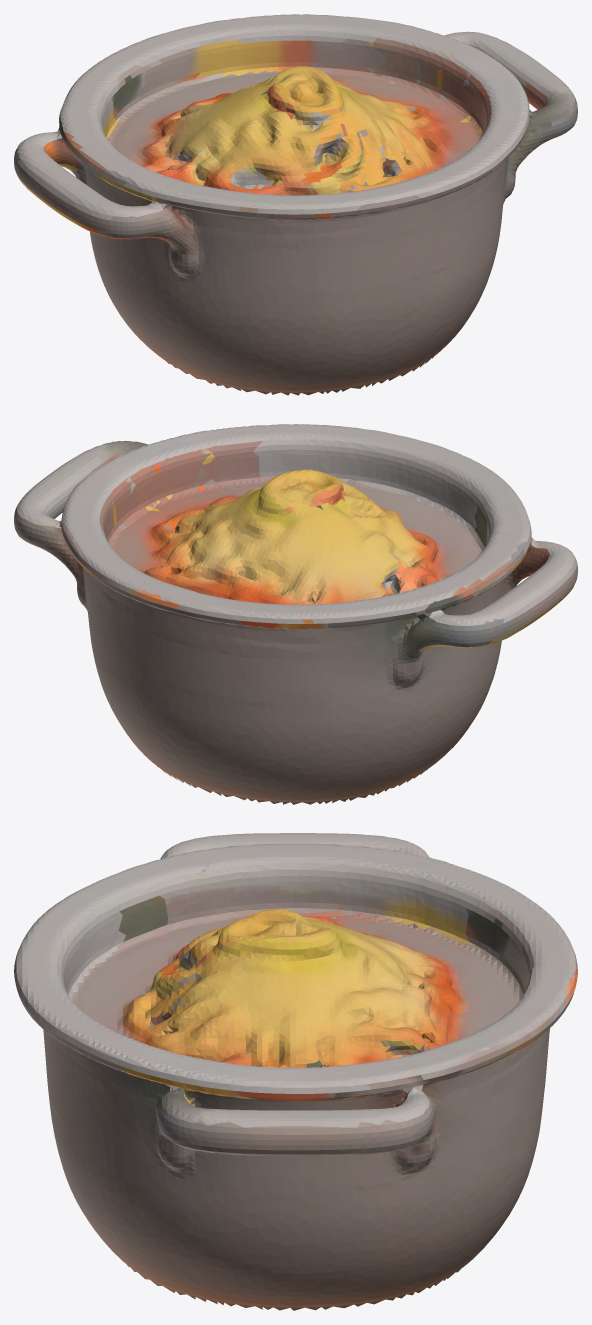
Rendered from garak_st_blancher.glb.
The picture shows the model from 3 angles, top to bottom: view 1: azimuth 30°, elevation 25°; view 2: azimuth 150°, elevation 25°; view 3: azimuth 270°, elevation 25°; orthographic projection. The views are drawn at different scales.
Visible parts, largest first — view 1: garak_st_blancher.obj; view 2: garak_st_blancher.obj; view 3: garak_st_blancher.obj.
Part boxes in pixels (x1,y1,x2,y2): garak_st_blancher.obj: [14, 14, 577, 395]; garak_st_blancher.obj: [14, 424, 577, 804]; garak_st_blancher.obj: [14, 833, 577, 1310].
Size of the model in its own units: 0.6623 by 0.3234 by 0.53.
1 material, 1 textured.
